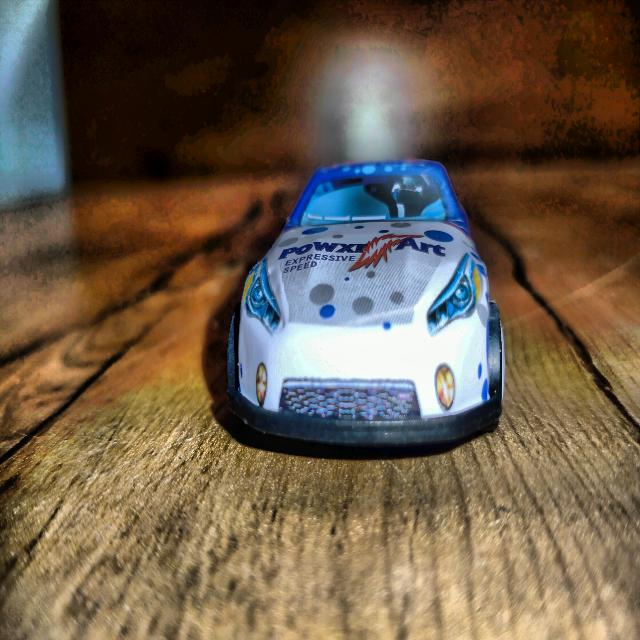Car: (228, 162, 503, 446)
